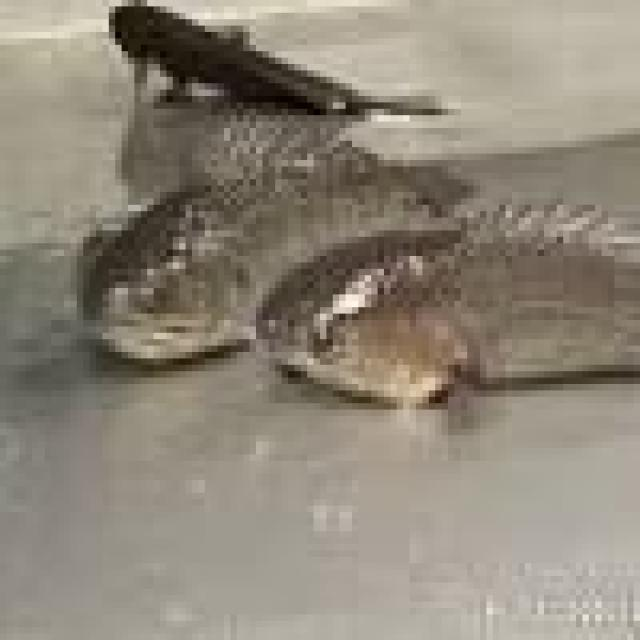Climbing-Perch: (64, 46, 640, 471)
